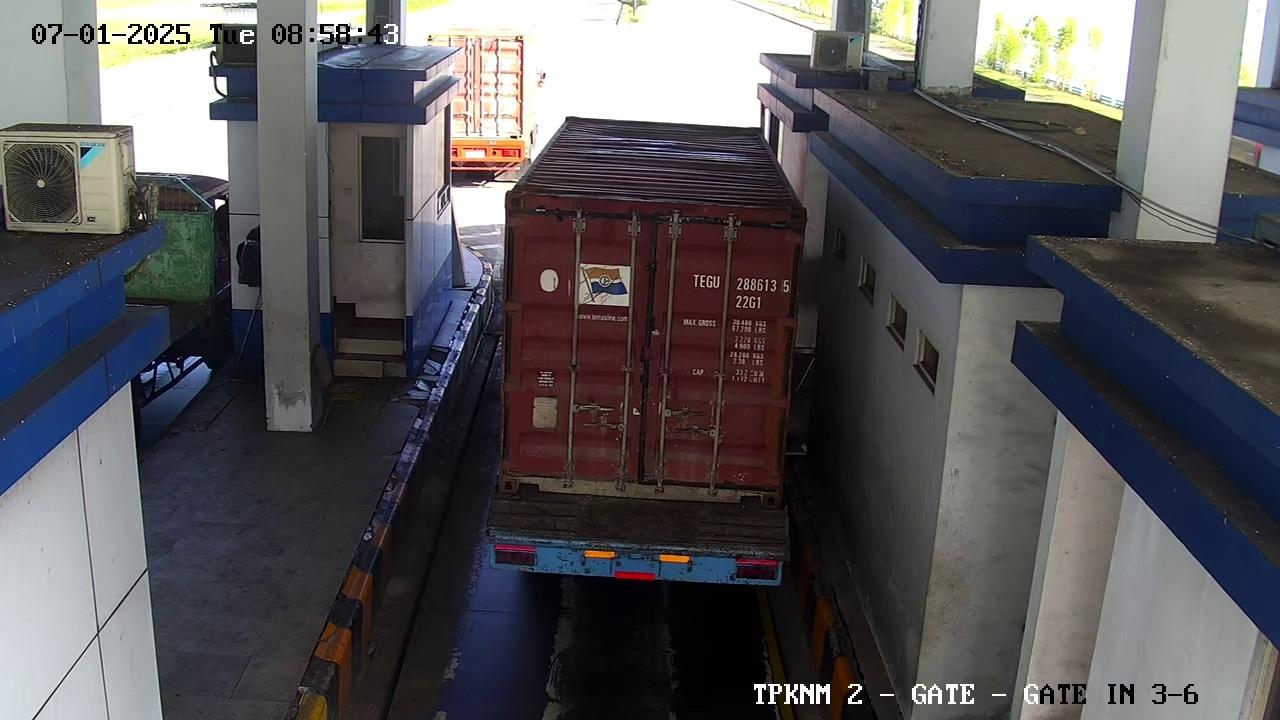Container_ID: (679, 274, 799, 296)
